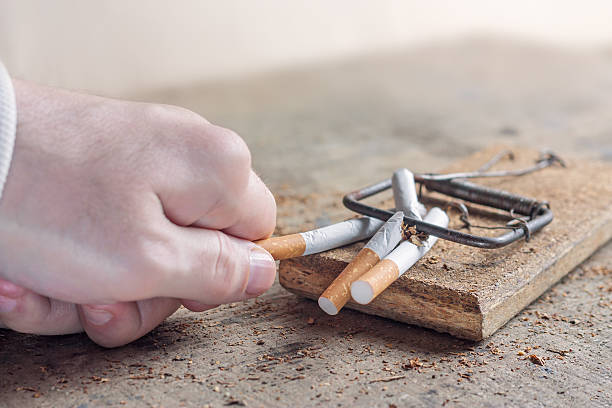cigarette: (348, 207, 450, 307), (315, 209, 406, 318), (257, 215, 386, 260), (391, 168, 430, 249)
